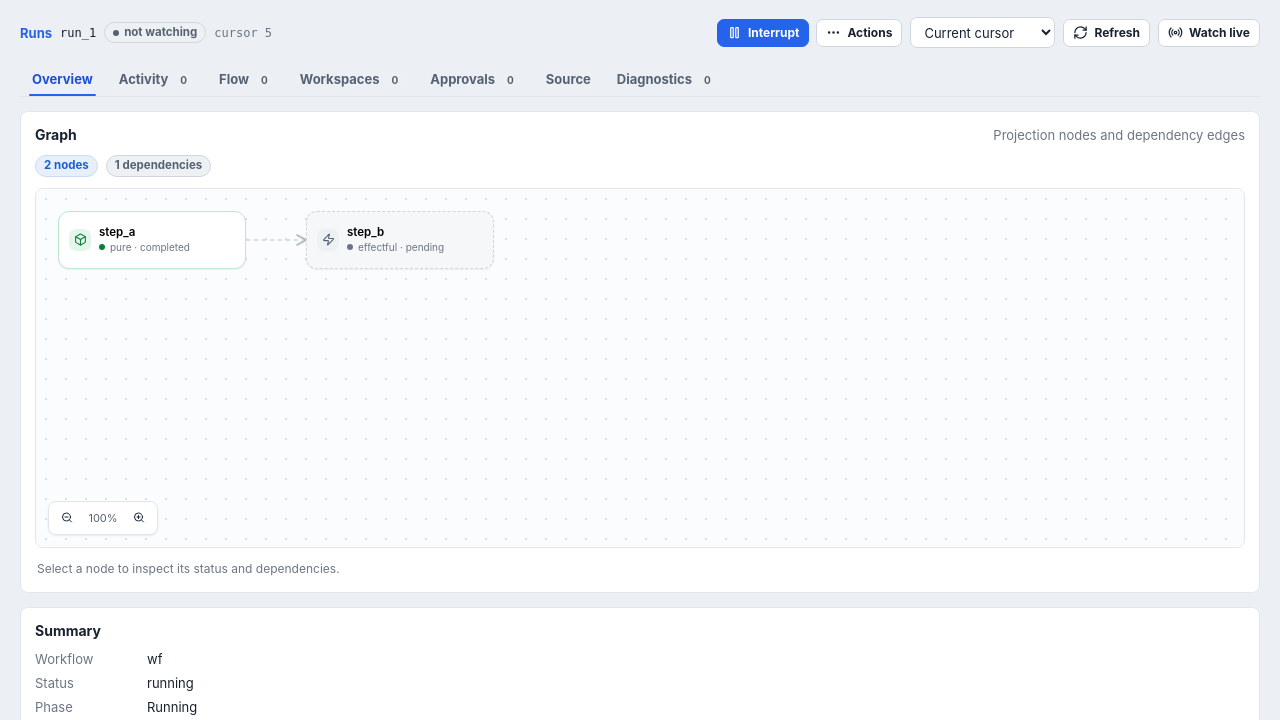
RunDetailScreen › projects live phase events without refetching detail
Expected: the text "cursor 5" is shown, [214, 26, 272, 40]
Click the button "Watch live".
click(1209, 32)  # box [1158, 18, 1260, 46]
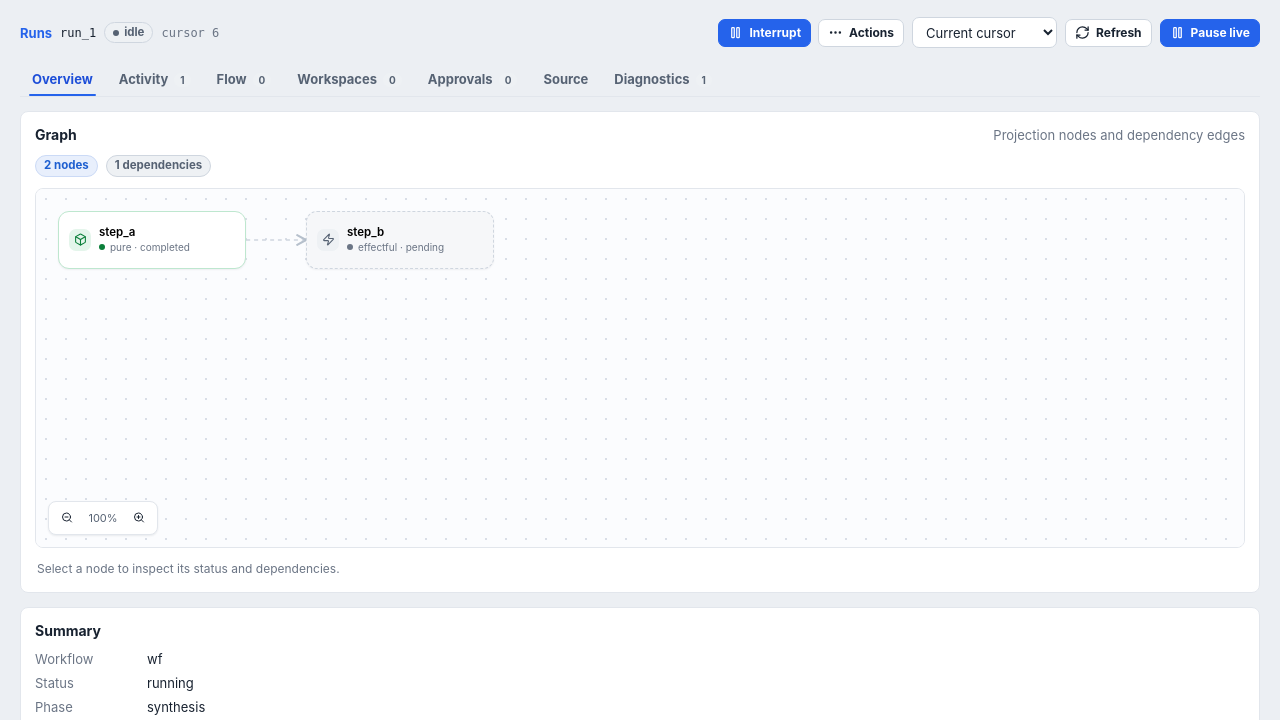
Now the text "synthesis" is shown, box [147, 698, 205, 714]
